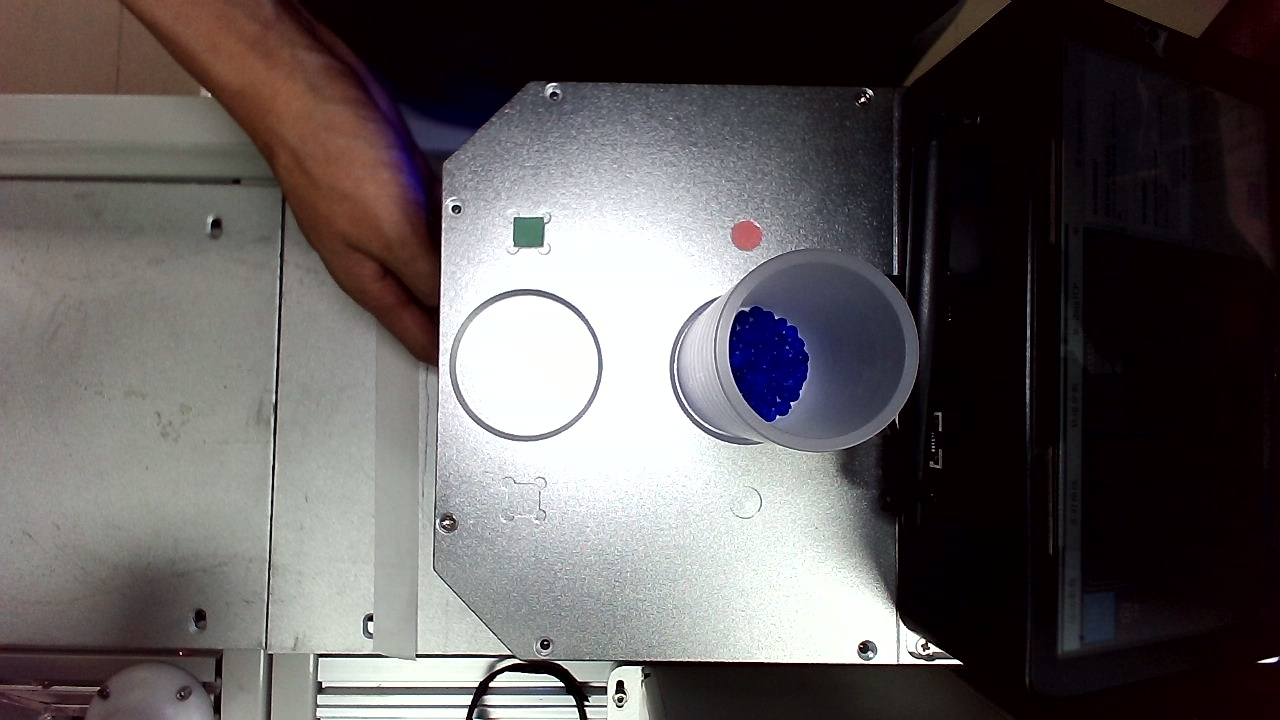bad: (839, 383, 890, 431), (256, 606, 304, 655), (784, 15, 829, 62), (266, 9, 310, 55), (815, 92, 859, 135), (261, 163, 304, 204), (747, 631, 788, 672), (765, 588, 806, 629), (748, 423, 790, 463), (801, 548, 840, 591), (397, 166, 436, 206), (475, 521, 513, 562), (832, 52, 873, 89), (362, 33, 401, 71), (442, 524, 481, 561), (264, 392, 301, 428), (801, 352, 837, 389), (806, 387, 841, 423), (802, 53, 835, 91), (404, 53, 438, 88)
defact: (687, 143, 727, 181)
pass: (578, 144, 621, 195), (658, 413, 700, 464), (386, 479, 431, 523), (377, 558, 420, 604), (444, 187, 488, 229), (288, 566, 330, 609), (610, 199, 652, 242), (837, 466, 878, 509), (545, 371, 585, 415), (690, 94, 729, 138), (573, 583, 611, 627), (763, 135, 801, 178), (412, 277, 452, 317), (615, 577, 652, 620), (857, 591, 892, 632), (578, 16, 612, 54)
toolong: (748, 480, 816, 542), (315, 72, 371, 122), (782, 436, 825, 496)
unpass: (794, 201, 844, 246), (260, 525, 308, 570), (832, 1, 875, 51), (525, 443, 567, 490), (836, 344, 880, 387), (274, 53, 317, 95), (257, 291, 301, 332), (649, 348, 688, 394), (269, 201, 314, 240), (619, 137, 658, 180), (845, 421, 889, 459), (343, 515, 385, 554), (822, 638, 862, 678), (731, 580, 768, 622), (658, 544, 695, 585), (800, 614, 836, 656), (858, 639, 897, 676), (519, 54, 556, 92), (547, 34, 582, 73), (747, 89, 780, 130), (489, 41, 524, 79), (804, 420, 840, 455), (512, 22, 547, 58)
